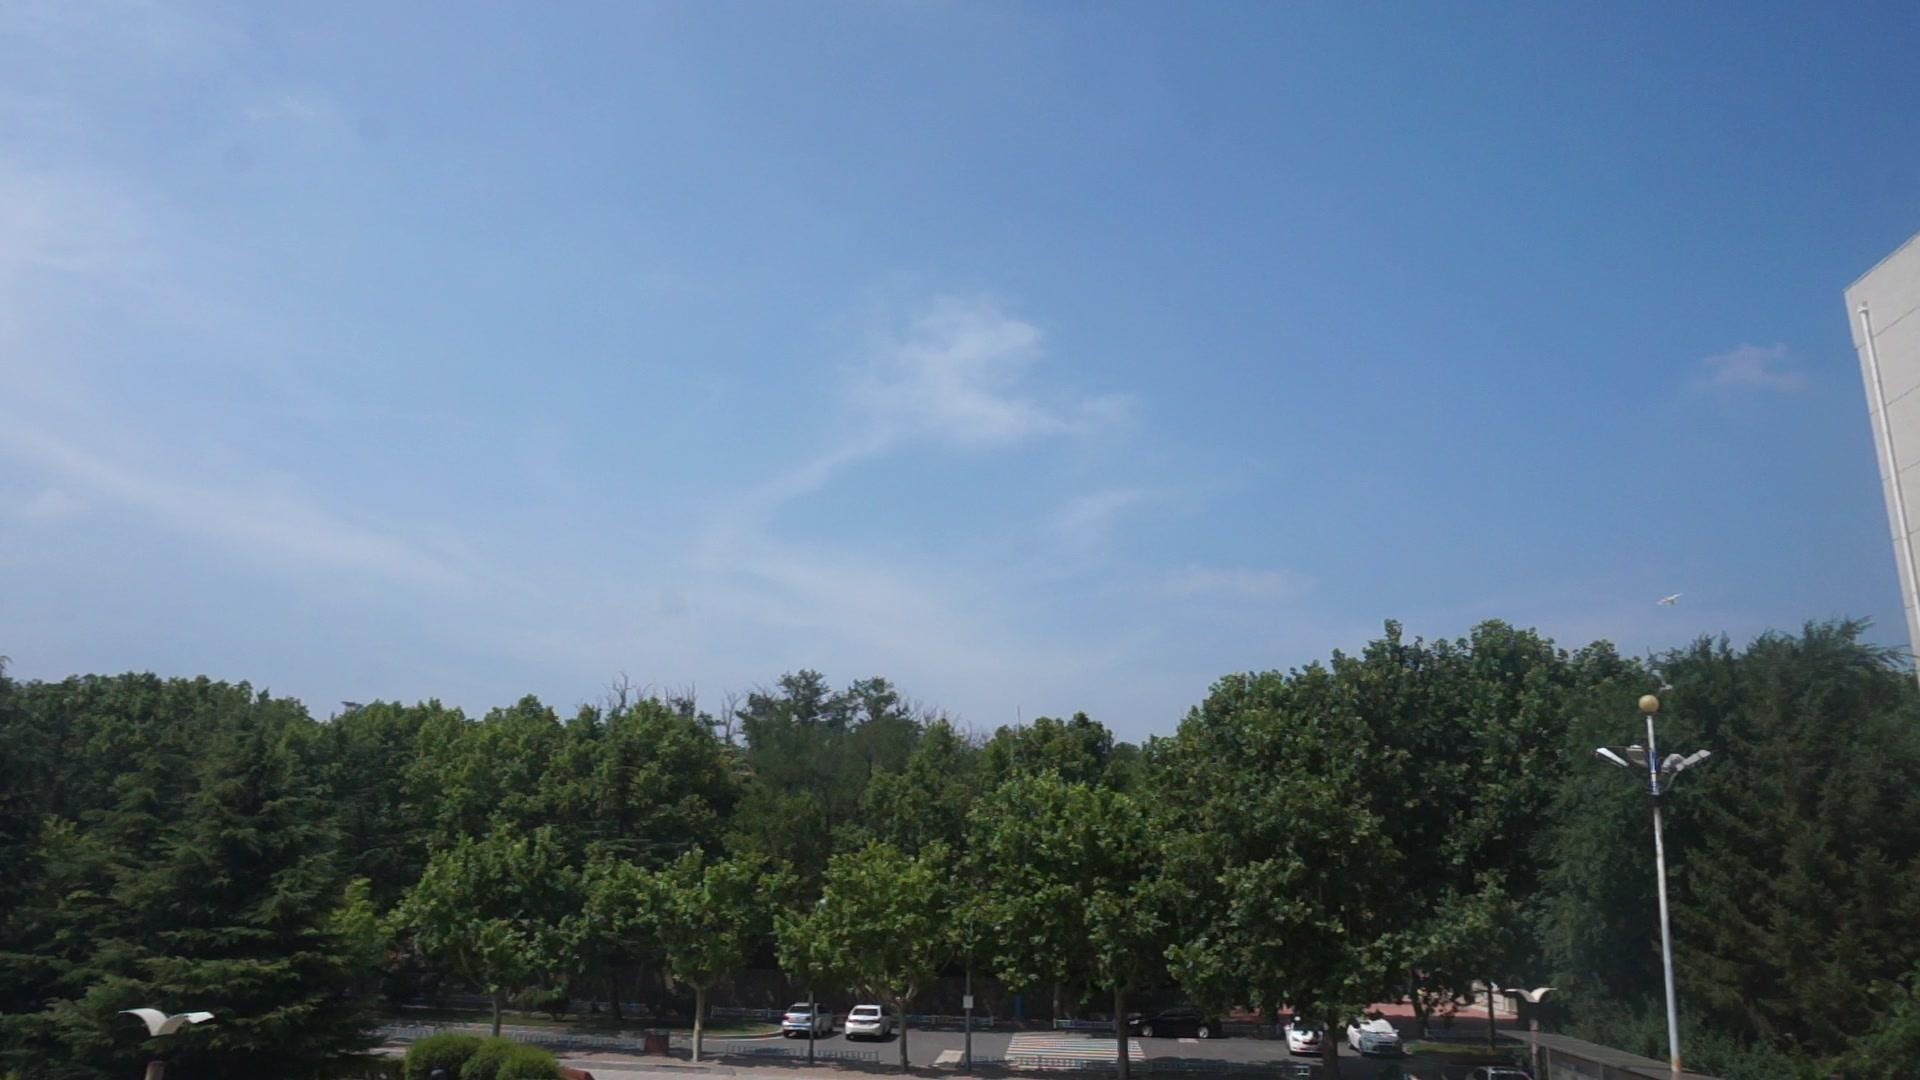UAV: (1658, 595, 1683, 607)
